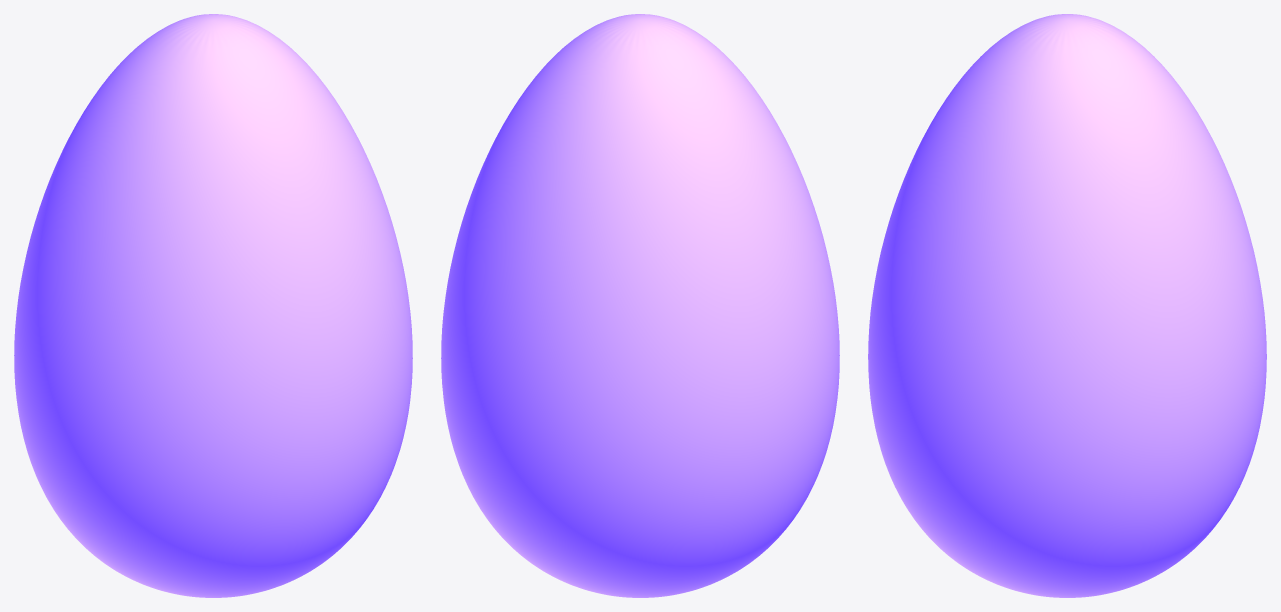
Rendered from DissolveEgg.fbx.
The picture shows the model from 3 angles, left to right: view 1: azimuth 30°, elevation 25°; view 2: azimuth 150°, elevation 25°; view 3: azimuth 270°, elevation 25°; orthographic projection.
Parts seen in each view (by area): view 1: Sphere; view 2: Sphere; view 3: Sphere.
Boxes of the visible parts, x1,y1,x2,y2 form: Sphere: [14, 14, 412, 597]; Sphere: [441, 14, 839, 597]; Sphere: [868, 14, 1266, 597].
Bounding box in the file's own units: 197 × 306 × 197.
